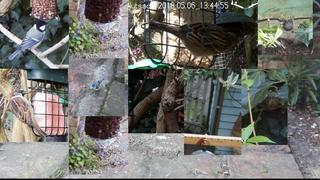blue tit: (90, 78, 105, 97)
great tit: (8, 20, 49, 61)
sparrow: (148, 20, 238, 62), (9, 89, 48, 139), (280, 20, 293, 33)
